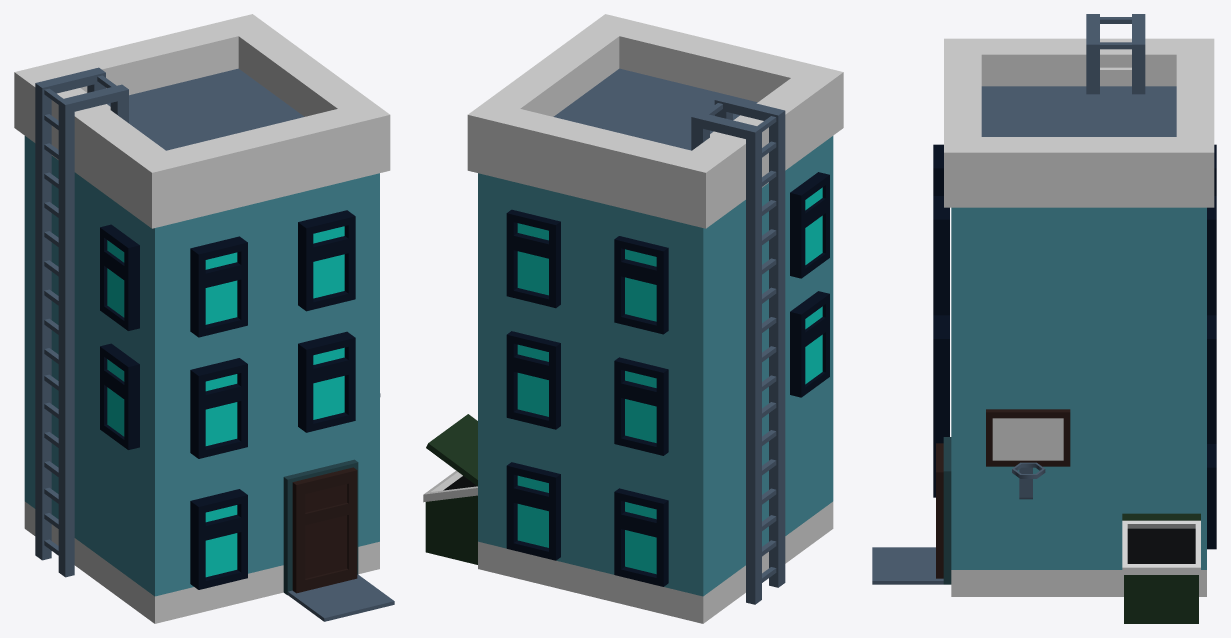
File: TownHouse_12.fbx
The picture shows the model from 3 angles, left to right: view 1: azimuth 30°, elevation 25°; view 2: azimuth 150°, elevation 25°; view 3: azimuth 270°, elevation 25°; orthographic projection.
Parts seen in each view (by area): view 1: TownHouse_12; view 2: TownHouse_12; view 3: TownHouse_12.
Part boxes in pixels (<box>): TownHouse_12: <box>14,14,394,623</box>; TownHouse_12: <box>423,14,843,623</box>; TownHouse_12: <box>872,14,1216,623</box>.
Bounding box in the file's own units: 27.22 × 40.57 × 27.23.
